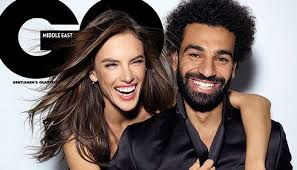middle_eastern_male: (179, 12, 236, 106)
